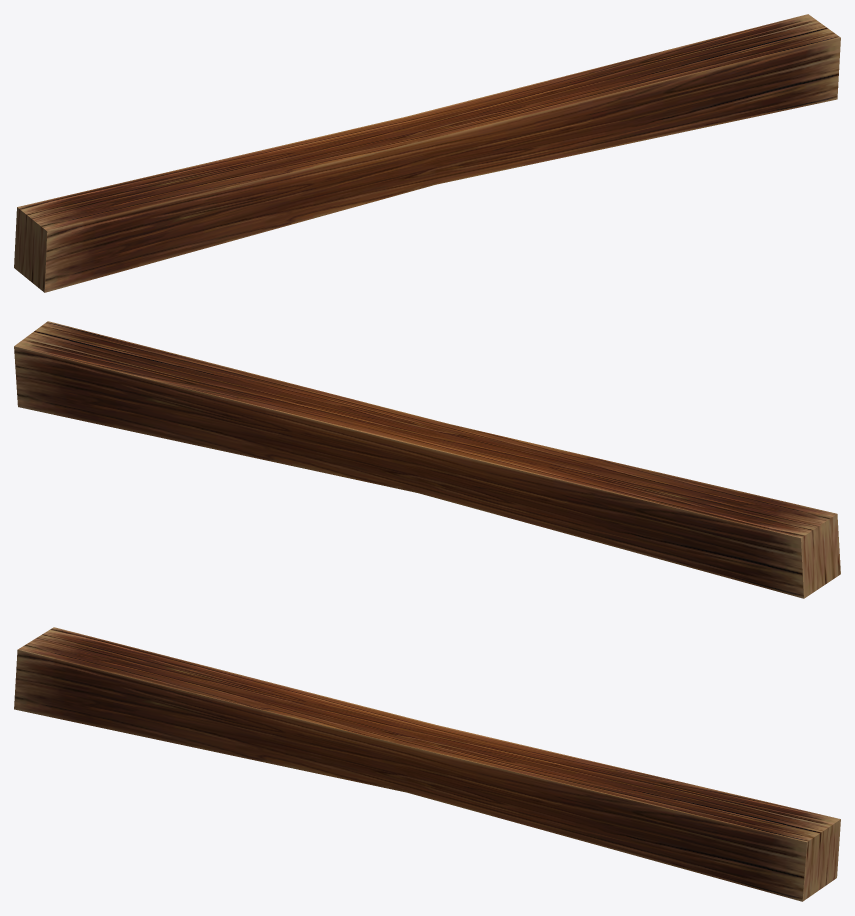
File: redridgedocksbeam01.obj
3 views of the same model, one above another, from view 1: azimuth 30°, elevation 25°; view 2: azimuth 150°, elevation 25°; view 3: azimuth 330°, elevation 25° (orthographic).
Visible parts, largest first — view 1: REDRIDGEDOCKSBEAM010; view 2: REDRIDGEDOCKSBEAM010; view 3: REDRIDGEDOCKSBEAM010.
Boxes of the visible parts, x1,y1,x2,y2 form: REDRIDGEDOCKSBEAM010: (14,14,840,292); REDRIDGEDOCKSBEAM010: (14,321,840,598); REDRIDGEDOCKSBEAM010: (14,627,840,901).
Size of the model in its own units: 23.48 by 1.72 by 1.73.
Materials: 1 (1 with a texture image).
